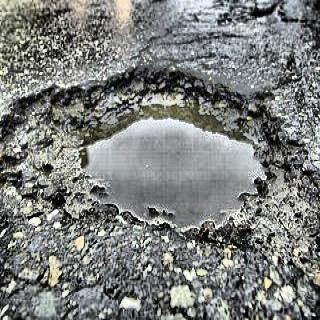alligator-crack: (123, 0, 246, 72)
crack: (262, 72, 302, 100)
pothole: (0, 60, 320, 282), (251, 0, 300, 28)
